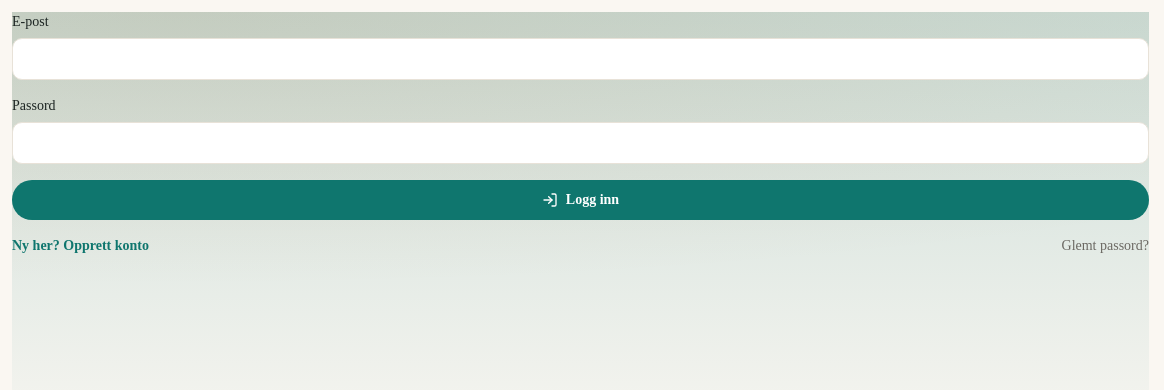
Test: EmailAuthForm › refuses a short password before asking the server
The image size is (1164, 390).
Click the button "Ny her? Opprett konto" at [80, 246], box top-left (12, 236), bottom-right (149, 256)
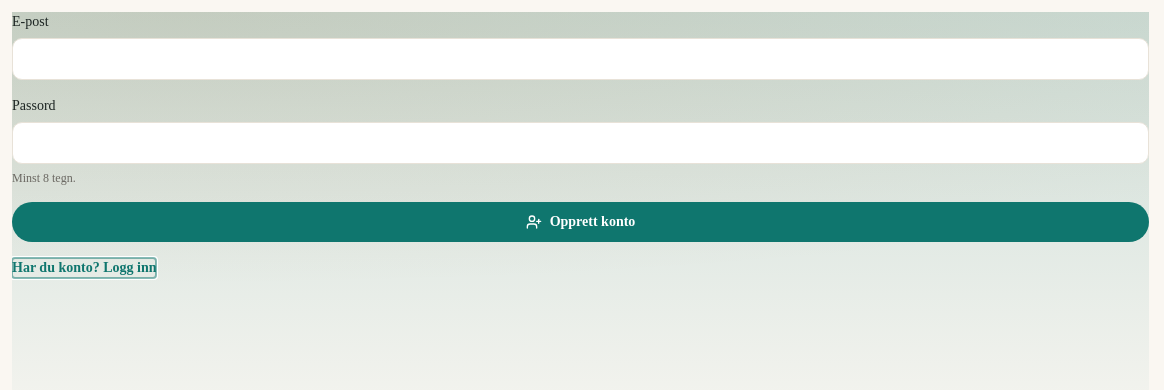
Type "ola@example.no" into the field labelled "E-post" at [580, 59], box top-left (12, 38), bottom-right (1149, 80)
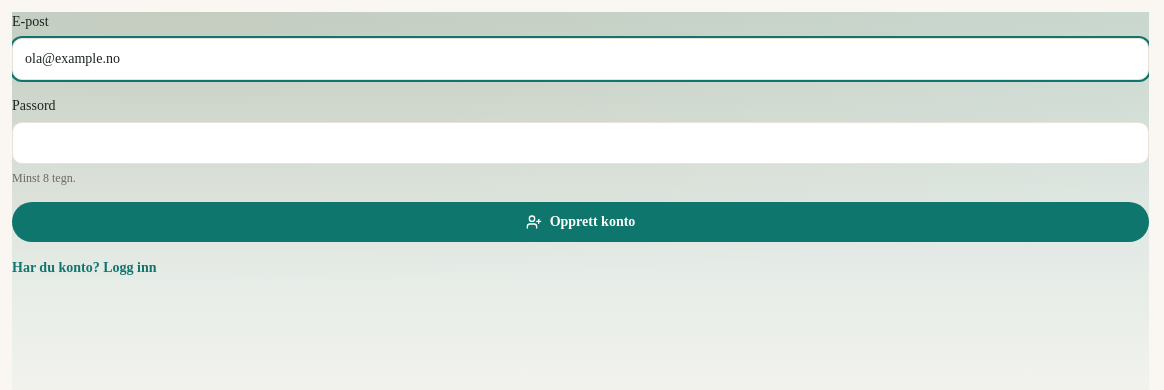
Type "kort" into the password field labelled "Passord" at [580, 143], box top-left (12, 122), bottom-right (1149, 164)
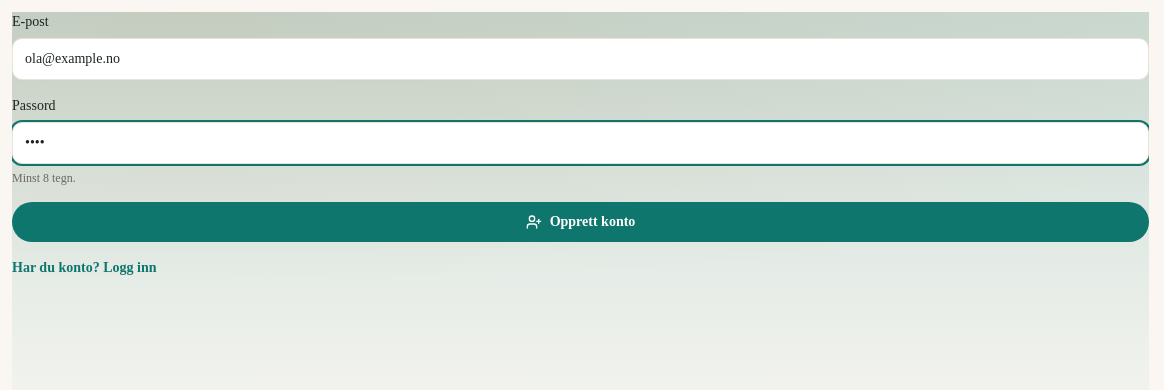
Click the button "Opprett konto" at [580, 222], box top-left (12, 202), bottom-right (1149, 242)
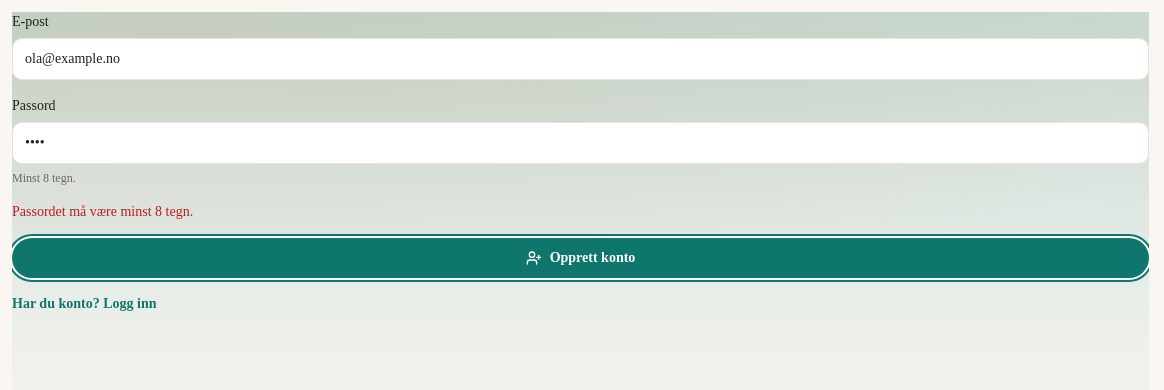
Check: the text "Passordet må være minst 8 tegn." is shown, box top-left (12, 204), bottom-right (193, 219)
